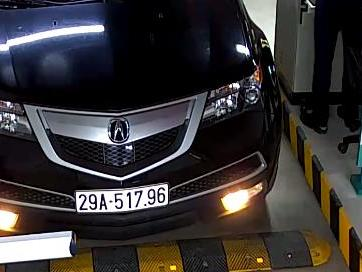car: (74, 183, 169, 213)
